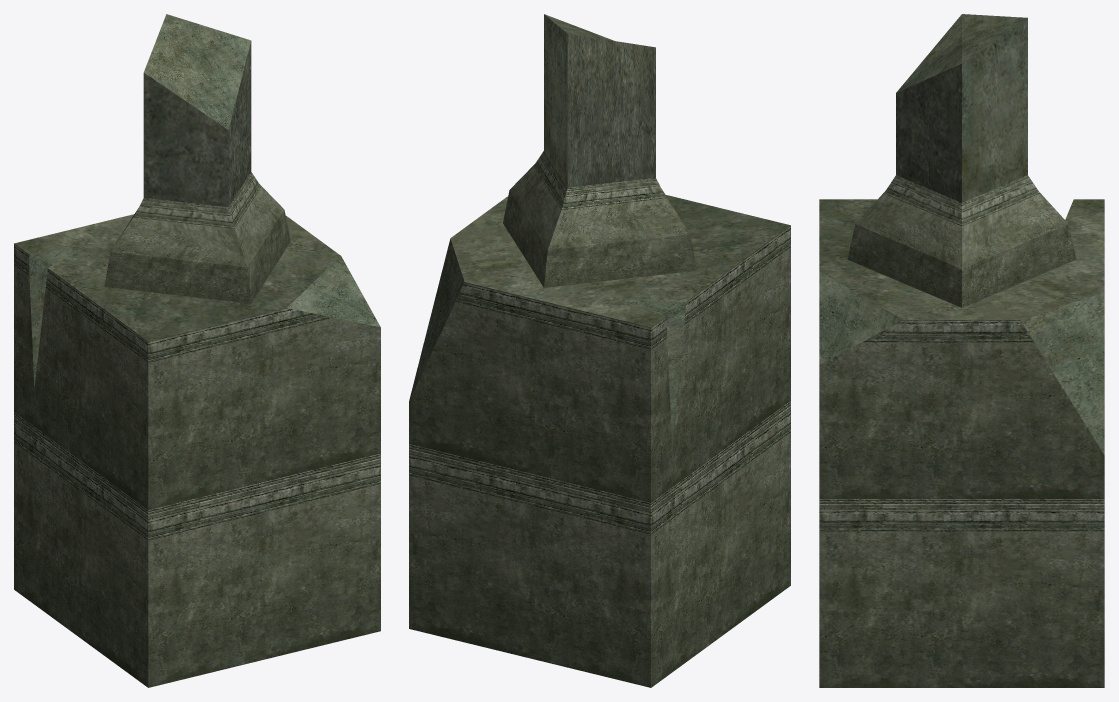
The model's file is thm_dant_jedi_temple_pillar_sm_l2.fbx.
3 renders of one model, left to right at view 1: azimuth 30°, elevation 25°; view 2: azimuth 150°, elevation 25°; view 3: azimuth 270°, elevation 25°, orthographic. The views are drawn at different scales.
Parts seen in each view (by area): view 1: mesh_node; view 2: mesh_node; view 3: mesh_node.
Boxes of the visible parts, box(x1,y1,x2,y2) form: mesh_node: box(14, 14, 380, 687); mesh_node: box(409, 14, 790, 687); mesh_node: box(819, 14, 1104, 687).
Bounding box in the file's own units: 2 × 4.72 × 2.
